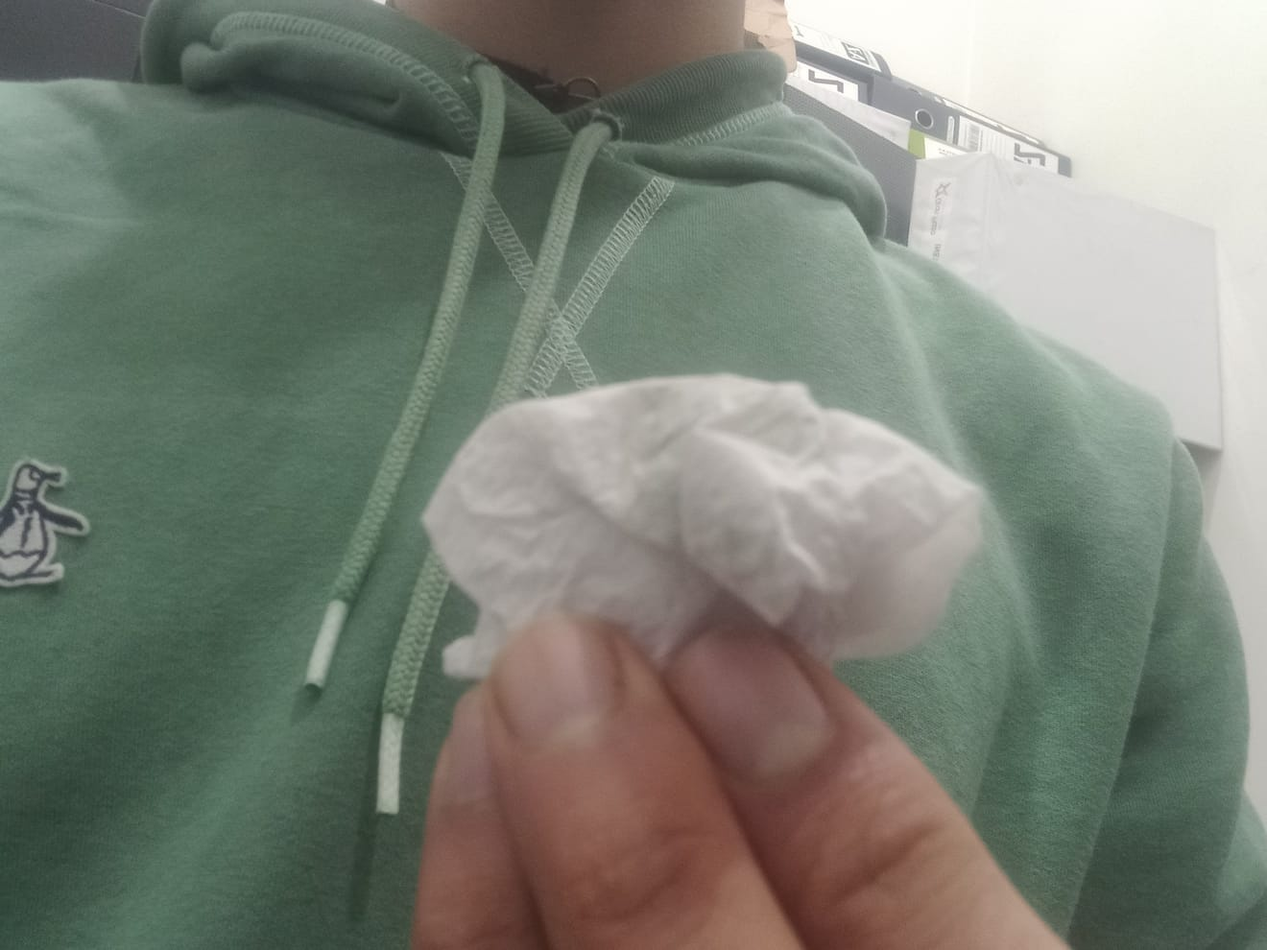Ordinario: (424, 372, 989, 685)
